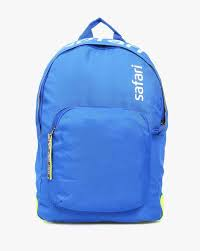backpack: (34, 17, 168, 223)
